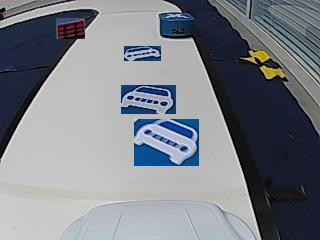prop: (159, 13, 196, 38)
